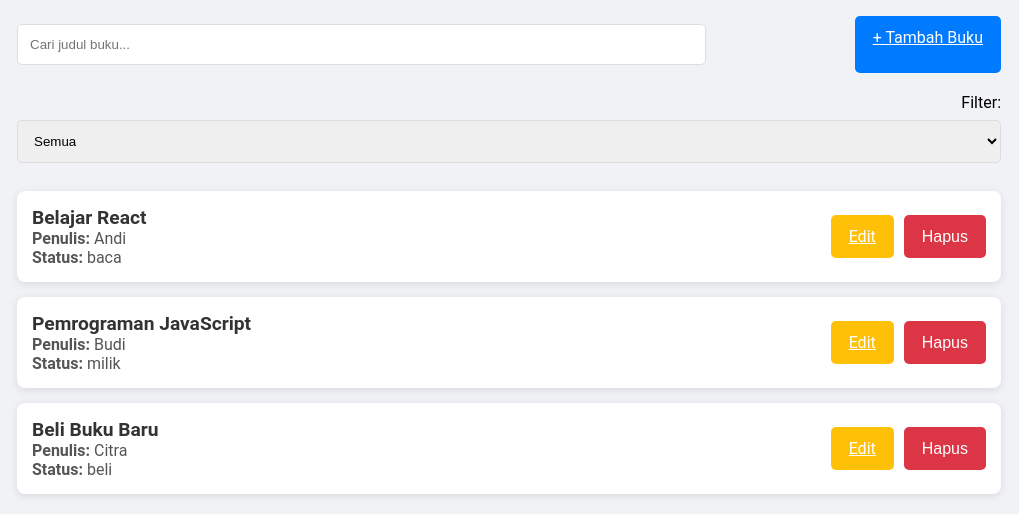
Test: Halaman Home › menampilkan hasil pencarian
The width and height of the screenshot is (1019, 514).
Type "react" into the field with placeholder "Cari judul buku...". click: (361, 44)
box: [17,24,706,65]
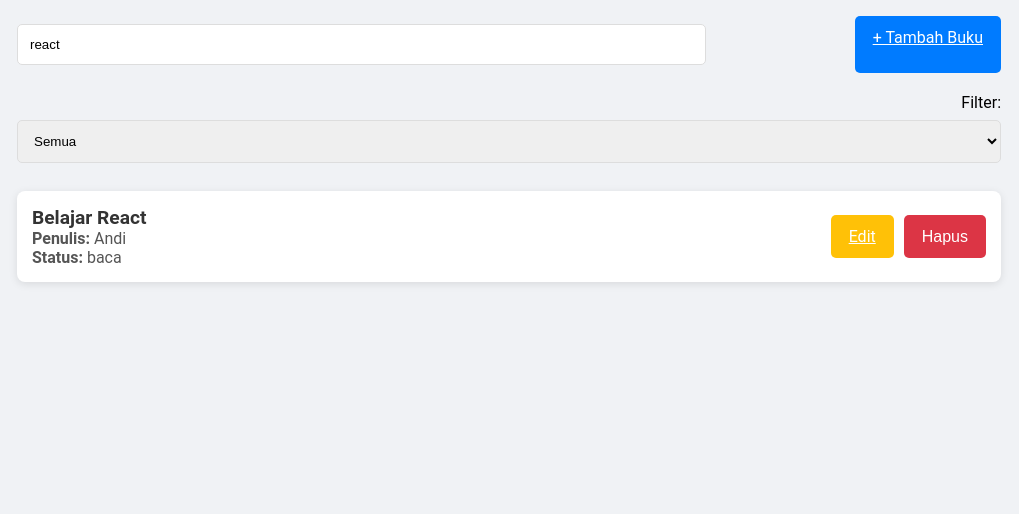
Check: the heading "Belajar React" is shown, box [32,206,146,229]
Check: the heading "Pemrograman JavaScript" is gone
